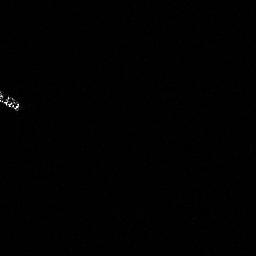ship: (1, 87, 23, 114)
